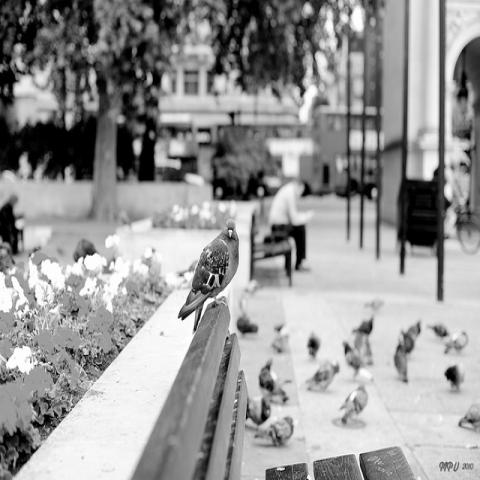car: (211, 160, 313, 200)
